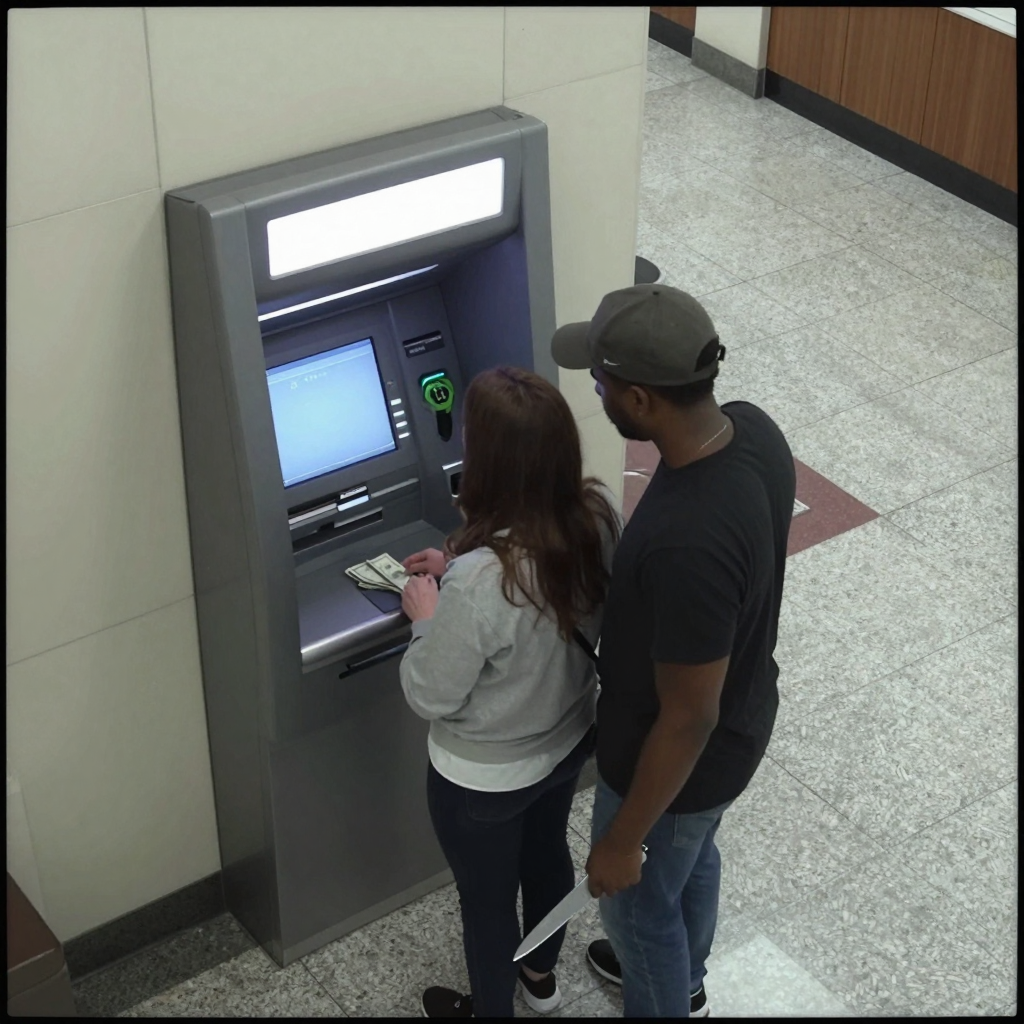Assault: (512, 875, 595, 963)
Robbery: (551, 282, 797, 1016), (399, 365, 627, 1017)
